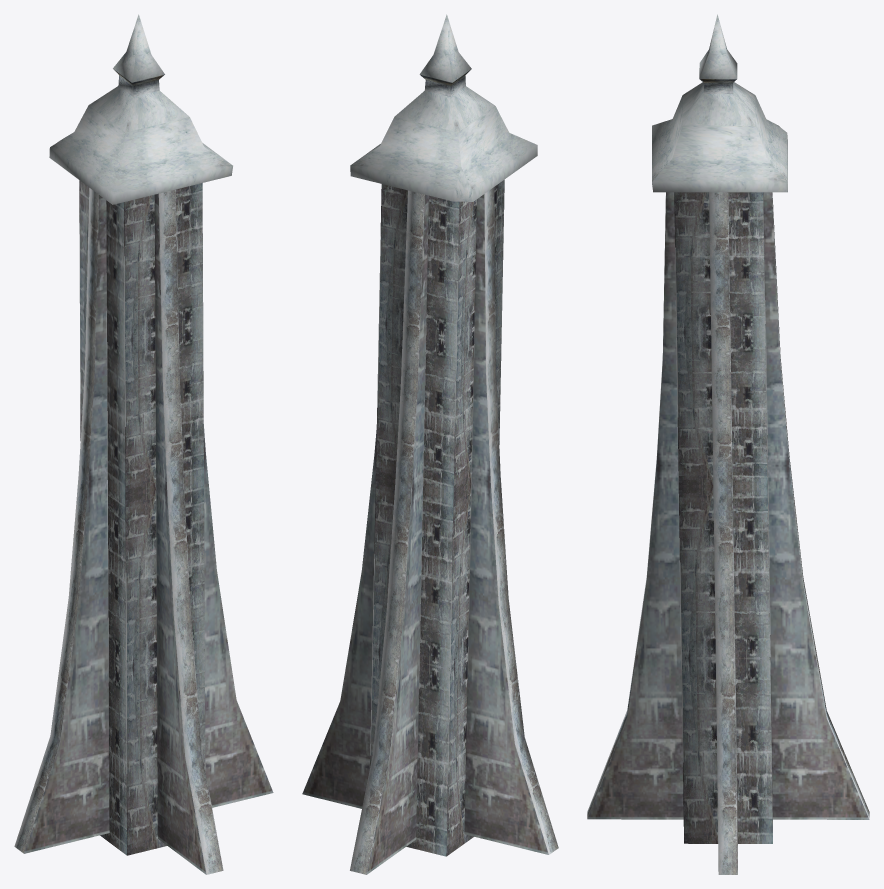
The model's file is S_Build_Snowland176.FBX.
The picture shows the model from 3 angles, left to right: view 1: azimuth 30°, elevation 25°; view 2: azimuth 150°, elevation 25°; view 3: azimuth 270°, elevation 25°; orthographic projection. The views are drawn at different scales.
Parts seen in each view (by area): view 1: S_Build_Snowland176; view 2: S_Build_Snowland176; view 3: S_Build_Snowland176.
Boxes of the visible parts, <box> form: S_Build_Snowland176: <box>14,14,273,874</box>; S_Build_Snowland176: <box>302,14,558,874</box>; S_Build_Snowland176: <box>587,14,869,874</box>.
Size of the model in its own units: 385 by 385 by 1214.
